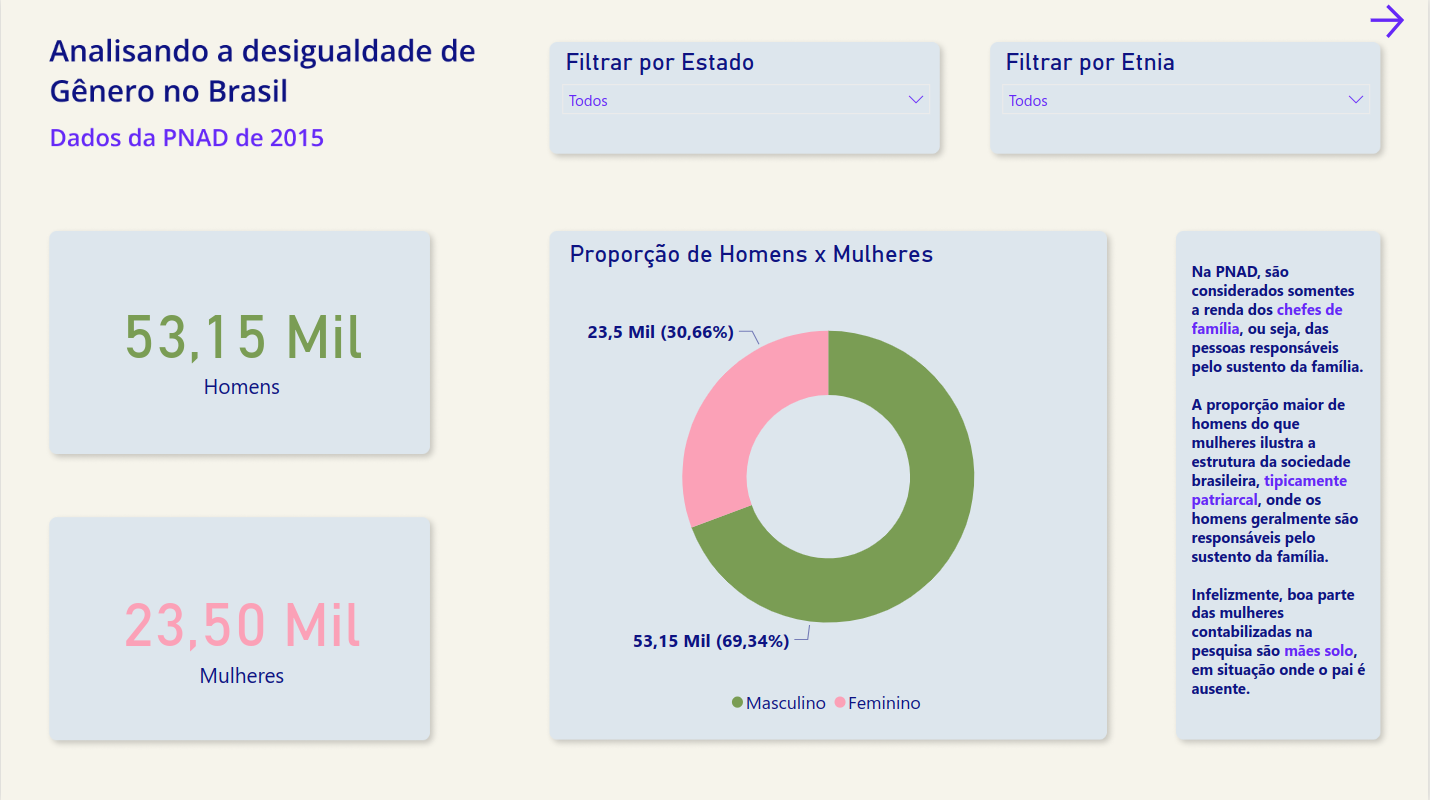

This screenshot's page, from the dashboard's own definition file:
{"tool":"powerbi","page":{"name":"Contagem","canvas":[1280,720],"ordinal":0},"visuals":[{"type":"card","fields":{"Values":["CountNonNull(Renda.Sexo)"]},"box":[44.7,466.5,342.1,201.2],"z":0},{"type":"card","fields":{"Values":["CountNonNull(Renda.Sexo)"]},"box":[44.7,208,342.1,200.2],"z":1000},{"type":"slicer","fields":{"Values":["Renda.UF"]},"box":[492.8,40.8,349.9,98.2],"z":2000},{"type":"slicer","fields":{"Values":["Renda.Cor"]},"box":[887.4,40.8,349.9,98.2],"z":3000},{"type":"donutChart","title":"Proporção de Homens x Mulheres","fields":{"Category":["Renda.Sexo"],"Y":["CountNonNull(Renda.Id)"]},"box":[504.4,218.7,474.3,432.5],"z":4000},{"type":"textbox","box":[1062.3,230.3,166.2,420.8],"z":5000},{"type":"actionButton","box":[1221.7,0,58.3,39.8],"z":5001}]}

Visuals, with their boxes in screenshot pixels (x1, y1, x2, y2), scaled from the page's 1280x720 canvas onto the 1430x800 screenshot:
card - CountNonNull(Renda.Sexo): 50/518/432/742
card - CountNonNull(Renda.Sexo): 50/231/432/454
slicer - Renda.UF: 551/45/941/154
slicer - Renda.Cor: 991/45/1382/154
"Proporção de Homens x Mulheres" donutChart: 564/243/1093/724
textbox: 1187/256/1372/723
actionButton: 1365/0/1429/44
